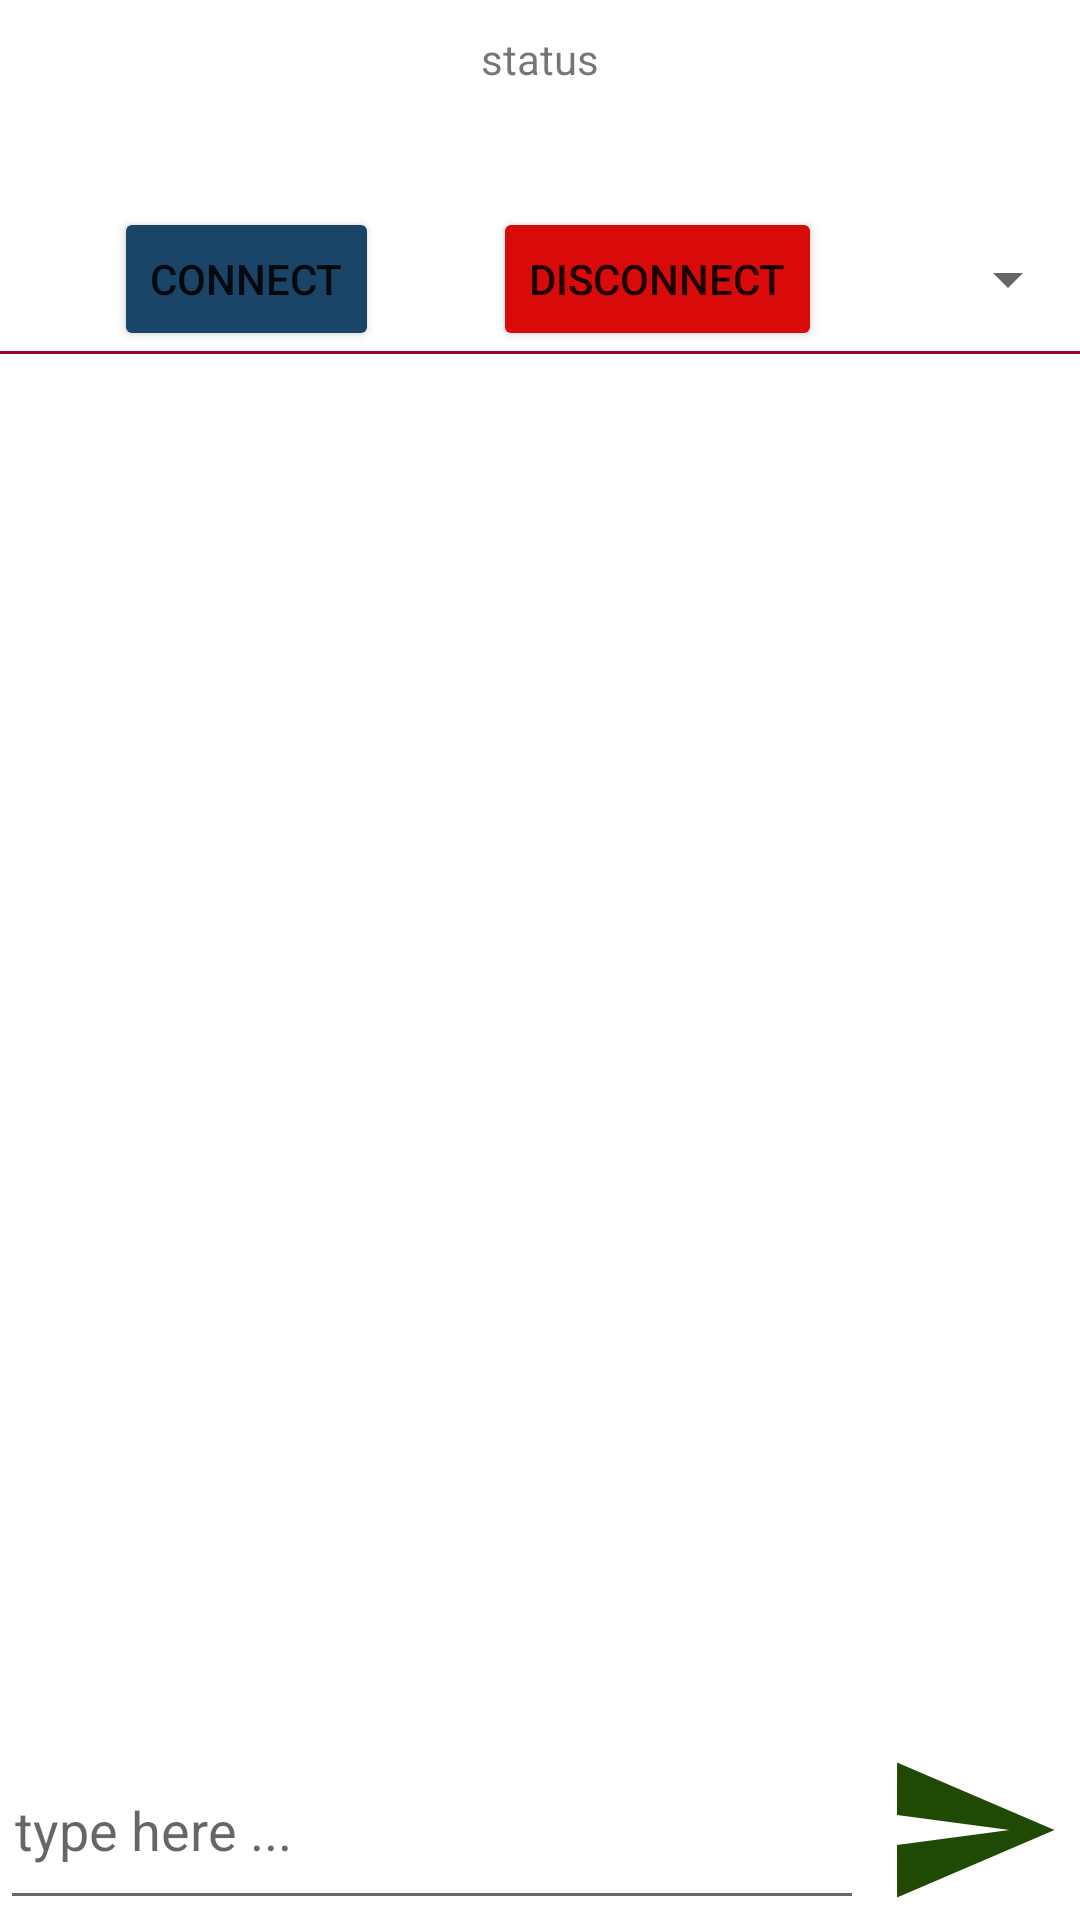

Point at icon controls on the screen. Image size 1080 x 1920, points as (x=x, y=y).
send message: (x=975, y=1830)
